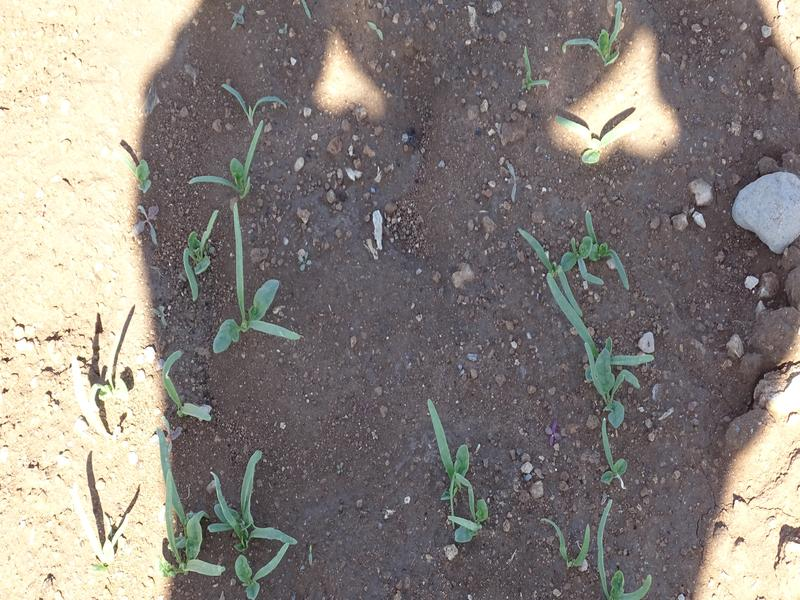Espinaca: (550, 208, 669, 598), (136, 115, 310, 347), (157, 361, 305, 589), (63, 355, 129, 565), (425, 391, 496, 536), (560, 109, 636, 173), (576, 13, 631, 79)
